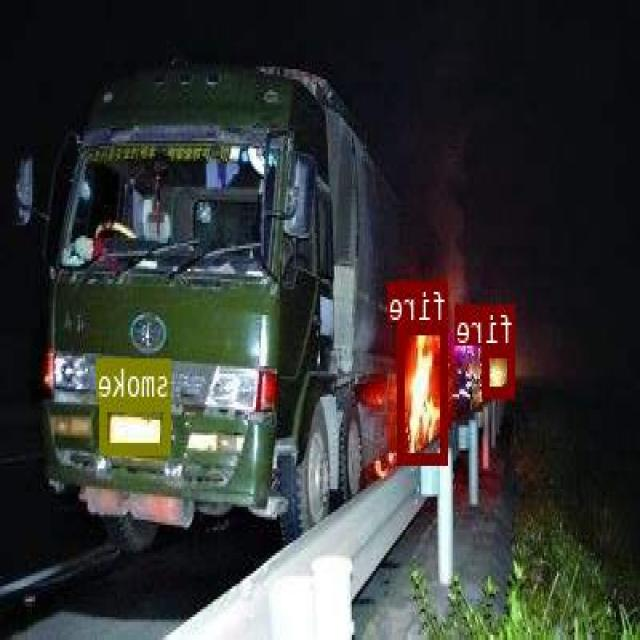fire: (400, 321, 449, 462), (484, 344, 516, 396)
smoke: (102, 399, 172, 451)
